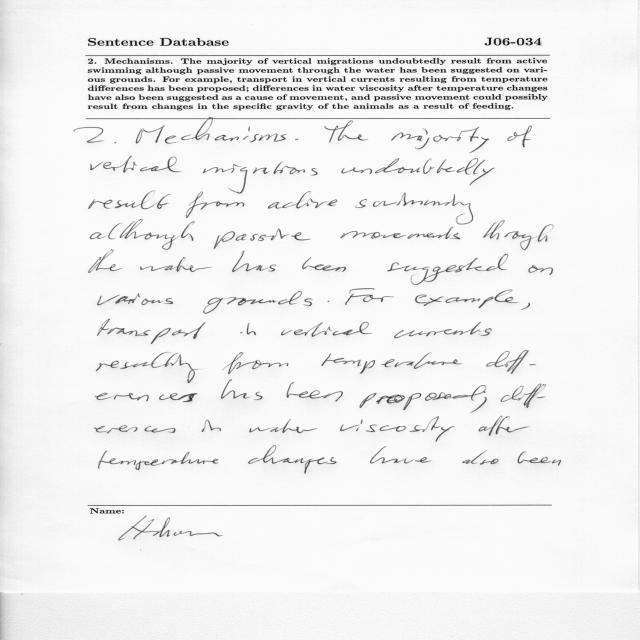word: (341, 158, 495, 186), (355, 193, 473, 225), (388, 254, 509, 285), (203, 162, 318, 194), (136, 120, 287, 144), (360, 385, 487, 413), (90, 219, 195, 250), (96, 352, 200, 383), (340, 416, 455, 442), (321, 353, 462, 374), (98, 319, 206, 344), (391, 127, 489, 153), (203, 291, 313, 314), (248, 446, 337, 474), (99, 450, 219, 470), (484, 221, 554, 251), (341, 223, 461, 240), (214, 228, 311, 249), (415, 289, 518, 308), (394, 322, 492, 338), (91, 156, 181, 173), (186, 192, 244, 218), (89, 191, 171, 209), (223, 352, 288, 374), (281, 322, 372, 337), (268, 191, 337, 209), (486, 350, 536, 374), (370, 446, 432, 464), (140, 257, 212, 272), (287, 383, 343, 402), (478, 416, 529, 436), (324, 121, 368, 143), (250, 419, 318, 433), (95, 393, 198, 402), (232, 251, 276, 272), (98, 294, 173, 306), (221, 380, 263, 400), (345, 289, 394, 305), (89, 250, 122, 273), (95, 425, 176, 434), (302, 257, 346, 272), (518, 452, 561, 466), (523, 384, 546, 408), (507, 126, 532, 148), (463, 451, 499, 465), (74, 127, 103, 142), (501, 385, 524, 402), (528, 265, 553, 275), (202, 420, 221, 432), (240, 323, 256, 335), (521, 303, 530, 310), (295, 139, 298, 140), (115, 142, 117, 143), (328, 301, 330, 302)
